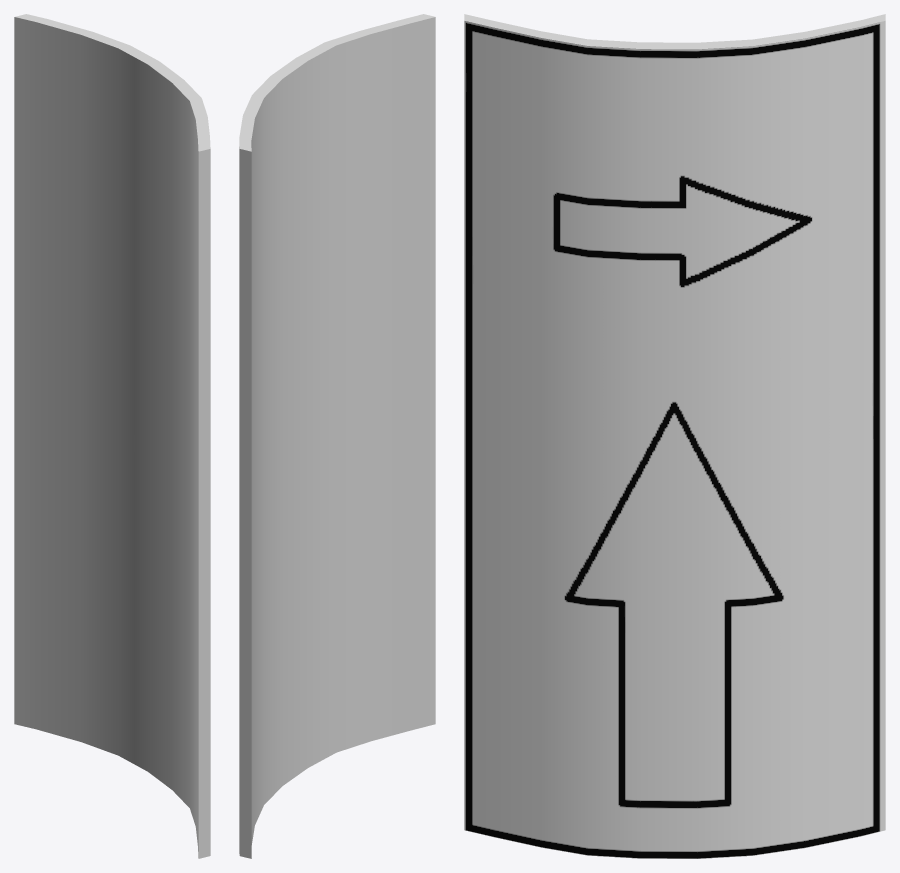
File: Billboard.fbx
3 renders of one model, left to right at view 1: azimuth 30°, elevation 25°; view 2: azimuth 150°, elevation 25°; view 3: azimuth 270°, elevation 25°, orthographic. The views are drawn at different scales.
Visible parts, largest first — view 1: pCube1; view 2: pCube1; view 3: pCube1.
Boxes of the visible parts, left/top/right/bottom form: pCube1: left=14, top=14, right=210, bottom=858; pCube1: left=239, top=14, right=435, bottom=858; pCube1: left=464, top=14, right=885, bottom=858.
Bounding box in the file's own units: 0.6205 × 6.61 × 3.12.
